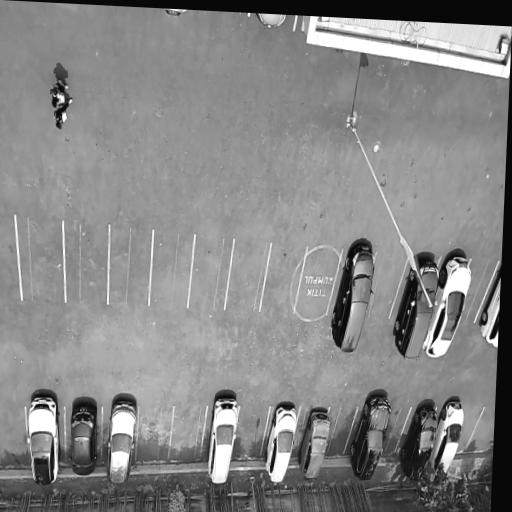Car: (387, 250, 443, 367), (421, 248, 475, 362), (325, 240, 377, 353), (345, 388, 395, 483), (395, 397, 446, 485), (24, 386, 62, 491), (258, 400, 302, 485), (204, 390, 242, 488), (428, 394, 468, 479), (103, 393, 138, 486), (293, 406, 333, 480), (69, 397, 98, 483), (476, 263, 501, 354), (255, 13, 292, 34)
Space Available: (16, 220, 64, 301), (108, 229, 153, 306), (65, 224, 107, 305), (150, 233, 195, 308), (189, 235, 234, 309), (261, 242, 307, 313), (294, 250, 342, 318), (226, 240, 271, 312), (366, 252, 408, 320), (460, 259, 499, 325), (169, 404, 207, 464), (137, 405, 175, 462), (231, 409, 270, 463), (0, 407, 29, 471), (0, 216, 21, 303), (324, 409, 357, 460), (456, 401, 486, 456), (381, 406, 411, 461)
